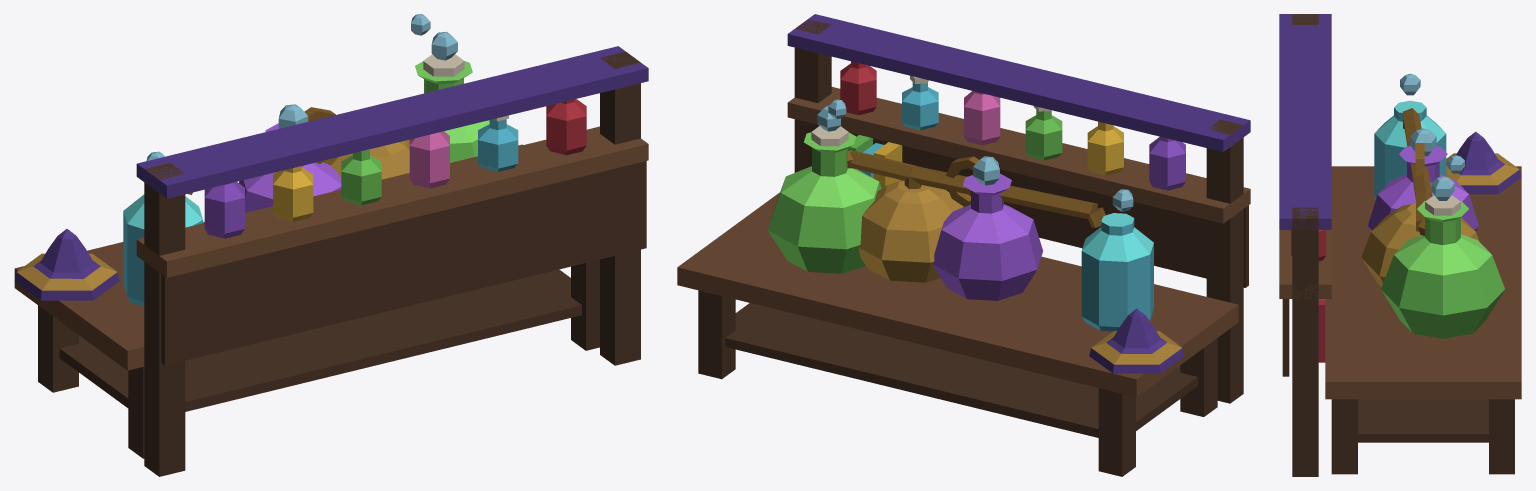
File: Decor_WizardTower_Alchemy.fbx
The picture shows the model from 3 angles, left to right: view 1: azimuth 30°, elevation 25°; view 2: azimuth 150°, elevation 25°; view 3: azimuth 270°, elevation 25°; orthographic projection. The views are drawn at different scales.
Parts seen in each view (by area): view 1: Alchemy_Body; view 2: Alchemy_Body; view 3: Alchemy_Body.
Boxes of the visible parts, box(x1,y1,x2,y2) form: Alchemy_Body: box(14, 14, 648, 476); Alchemy_Body: box(677, 14, 1250, 476); Alchemy_Body: box(1279, 14, 1521, 476).
Size of the model in its own units: 16 by 9 by 7.4.
